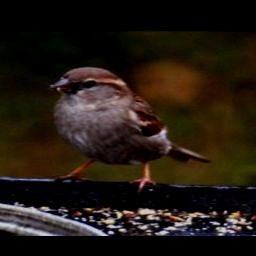Sparrow: (45, 65, 211, 195)
